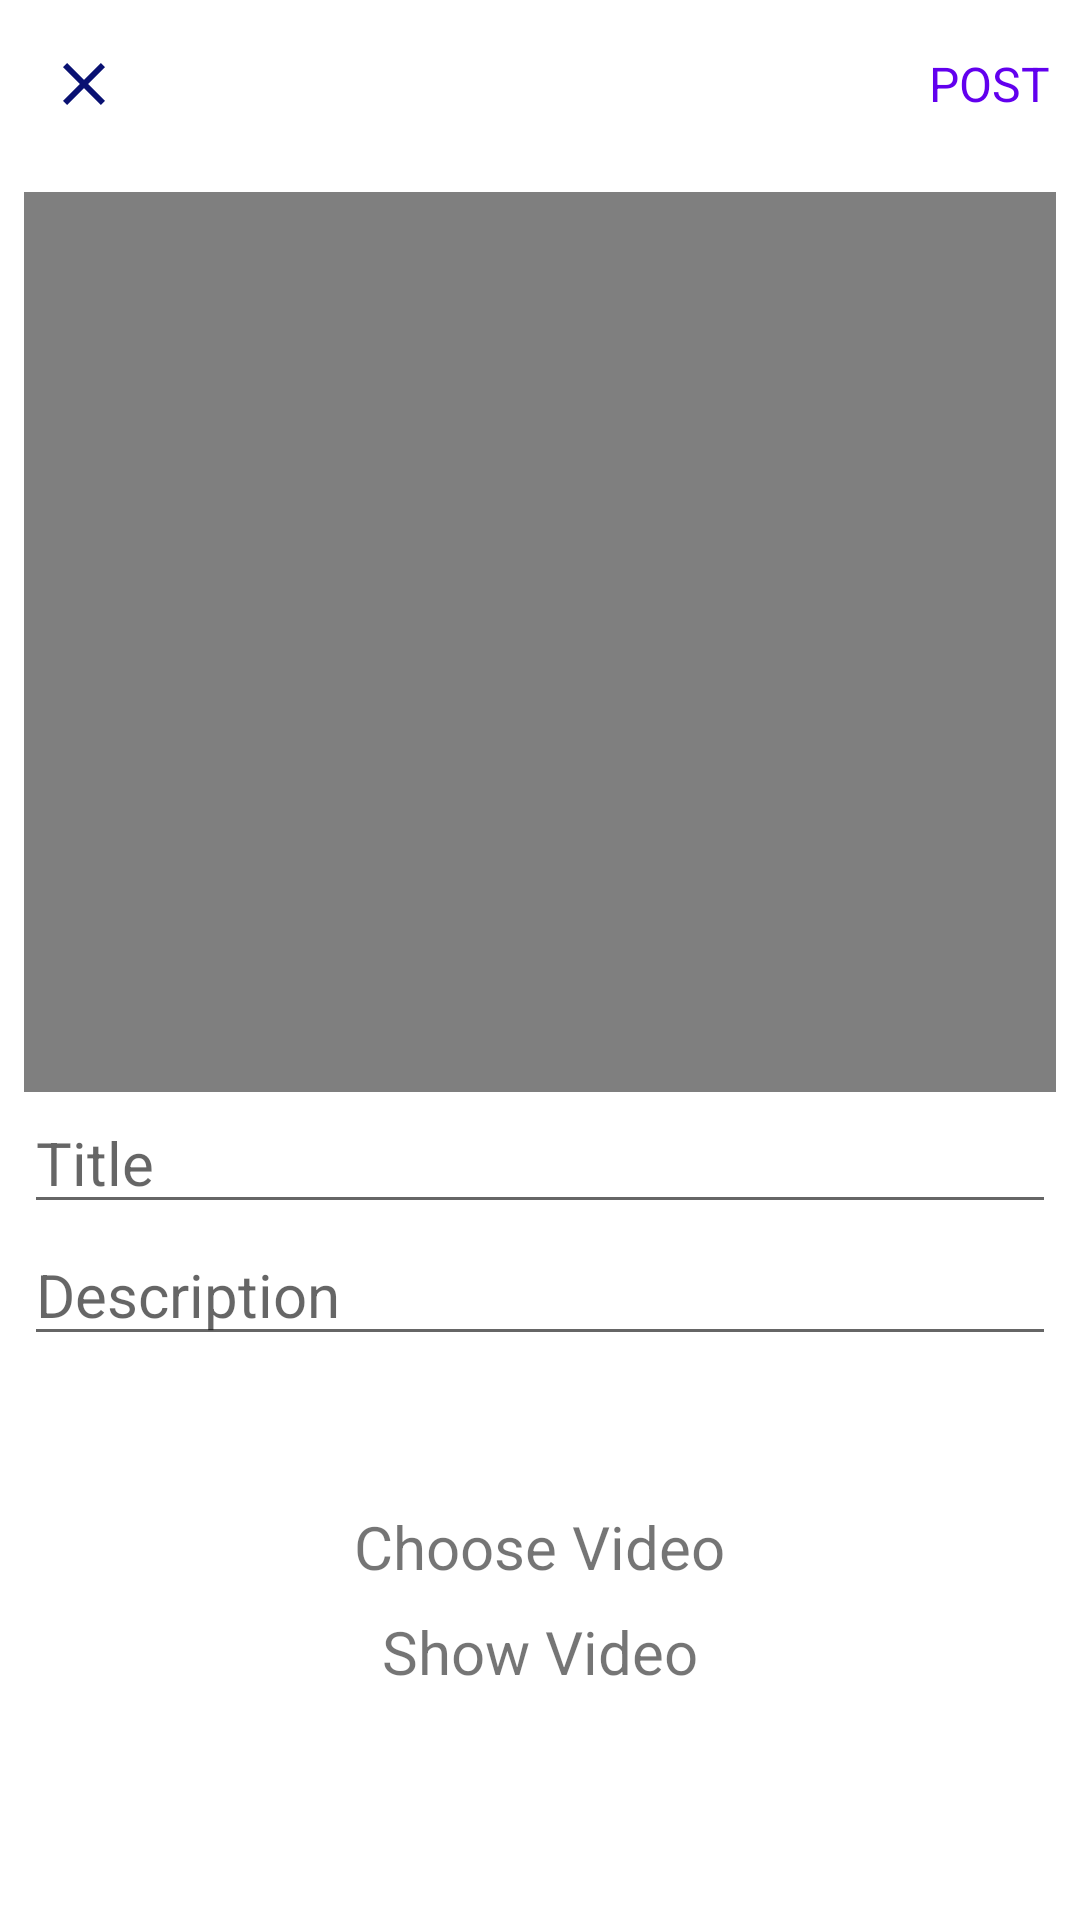

Icons on this 1080w x 1920h Android screen, each with the point to tap as point (x, y):
close: point (84, 84)
